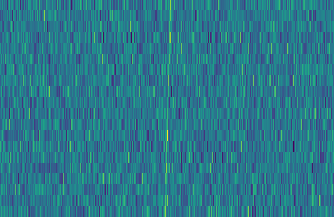signal: (159, 0, 174, 217)
